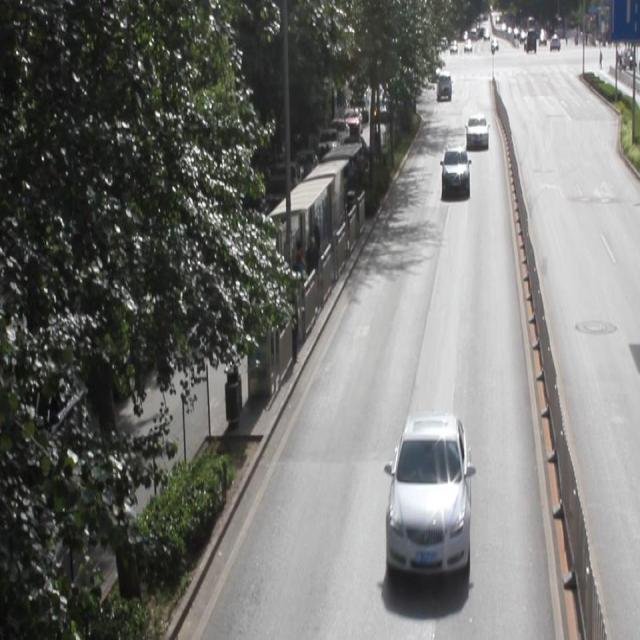car: (386, 409, 470, 578), (439, 144, 468, 194), (464, 113, 488, 147)
